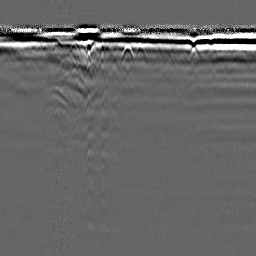cavity: (121, 42, 134, 62)
